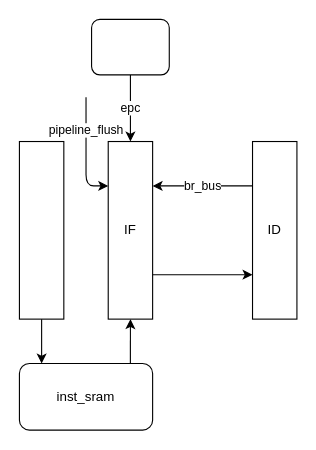
Some shapes in this 316 by 450 pixel diagram are drawn without their labels. Here are the shapes that lost their labels. From the top down, the box of each, then its label:
(90, 18, 169, 75): CP0
(18, 140, 64, 319): pre-IF
